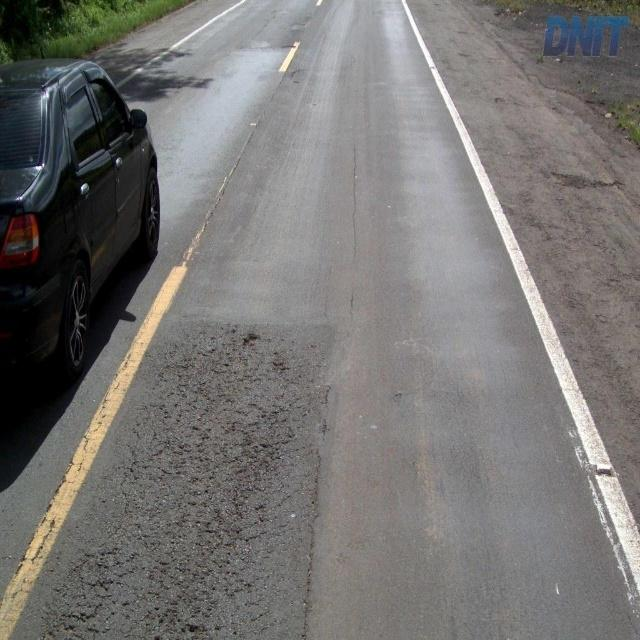pothole: (93, 336, 302, 632)
